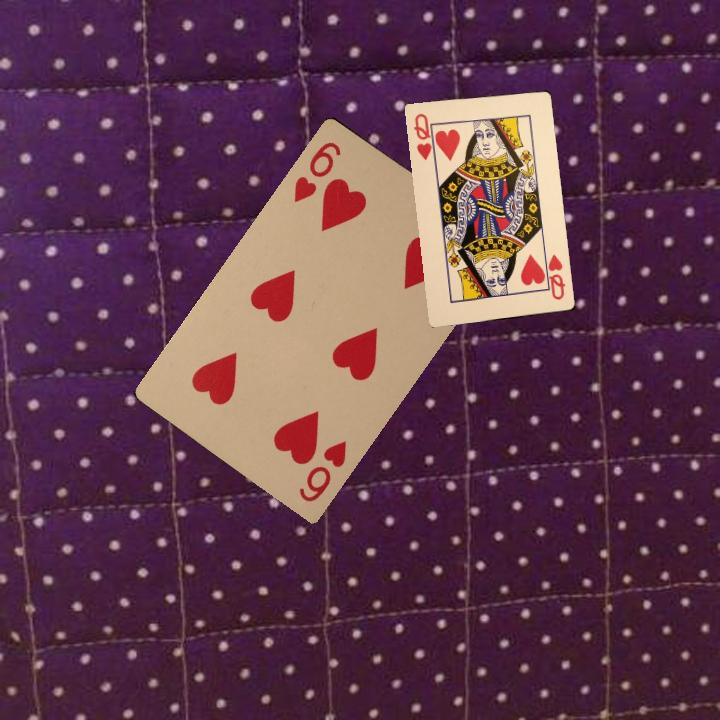6h: (294, 436, 350, 505), (289, 137, 344, 205)
Qh: (410, 109, 438, 163), (540, 250, 567, 302)
